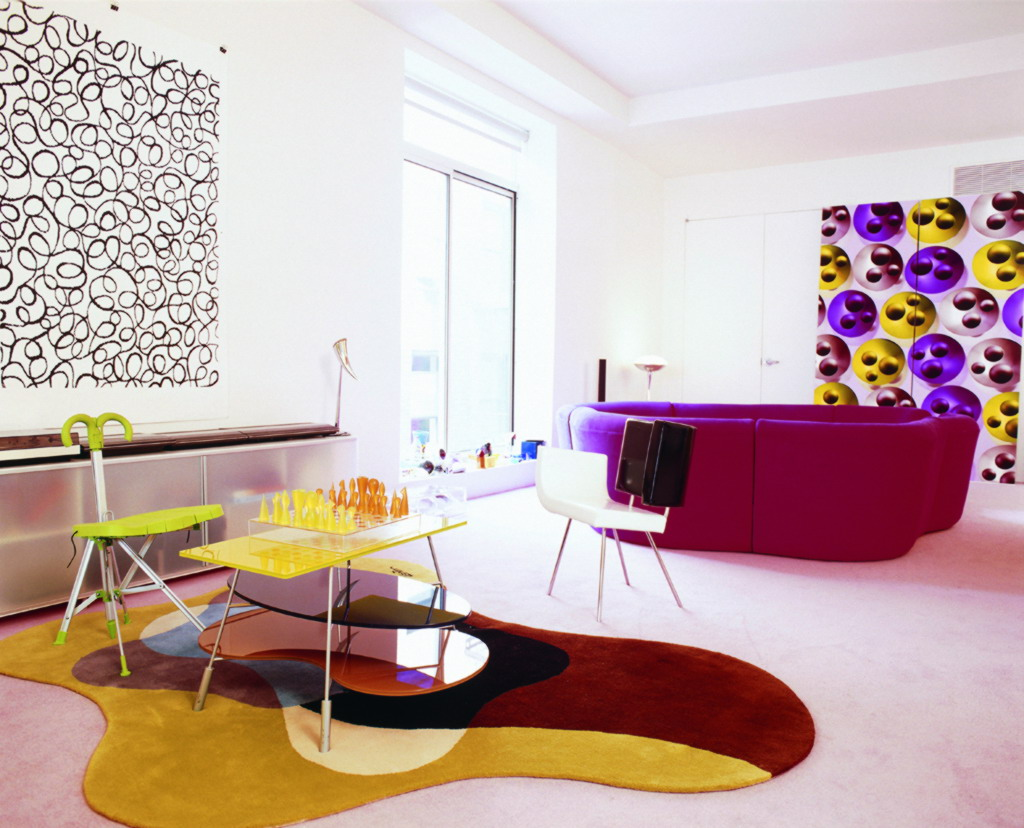coklat: (619, 419, 690, 502)
hijau: (79, 506, 222, 536)
kuning: (197, 494, 369, 573)
orange: (339, 479, 411, 516)
putih: (535, 447, 657, 528)
ungu: (691, 402, 974, 559)
